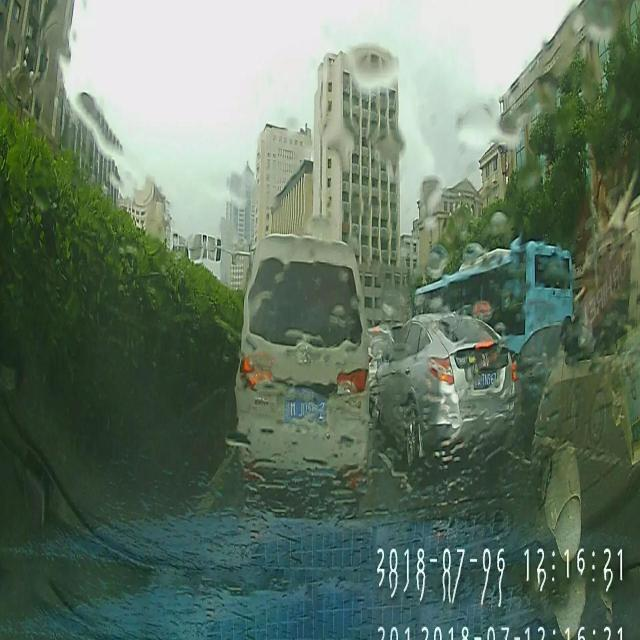car: (531, 182, 640, 511), (236, 234, 370, 494), (372, 312, 518, 466), (514, 320, 569, 430)
